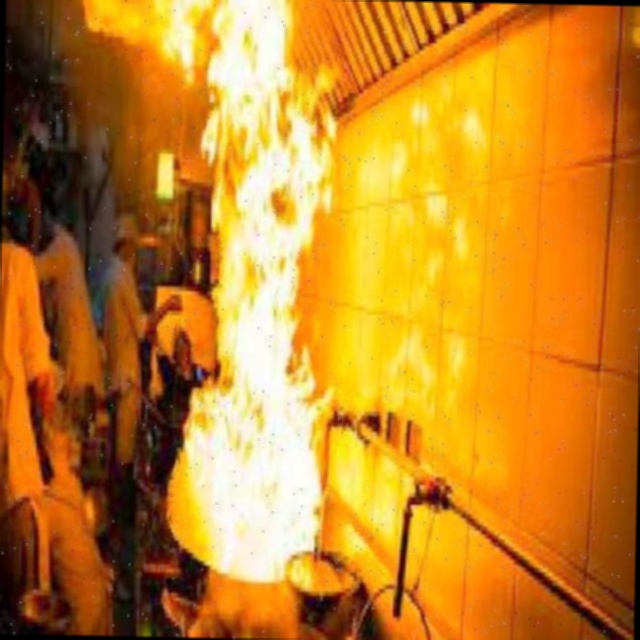fire: (138, 0, 341, 583)
